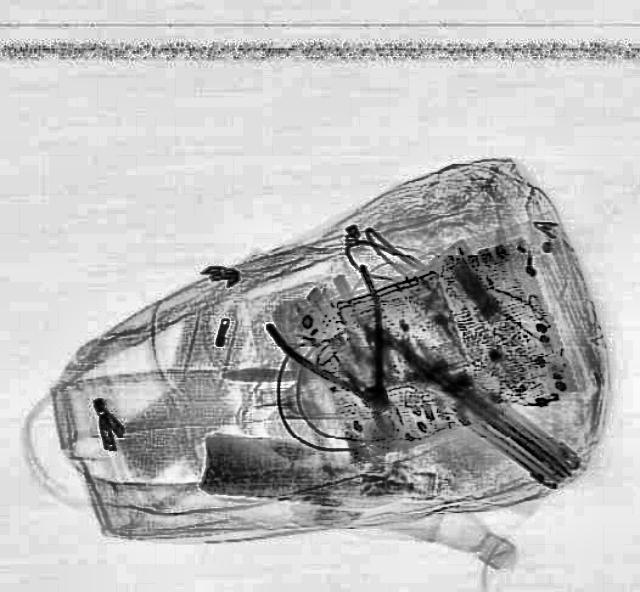Pliers: (252, 262, 448, 452)
